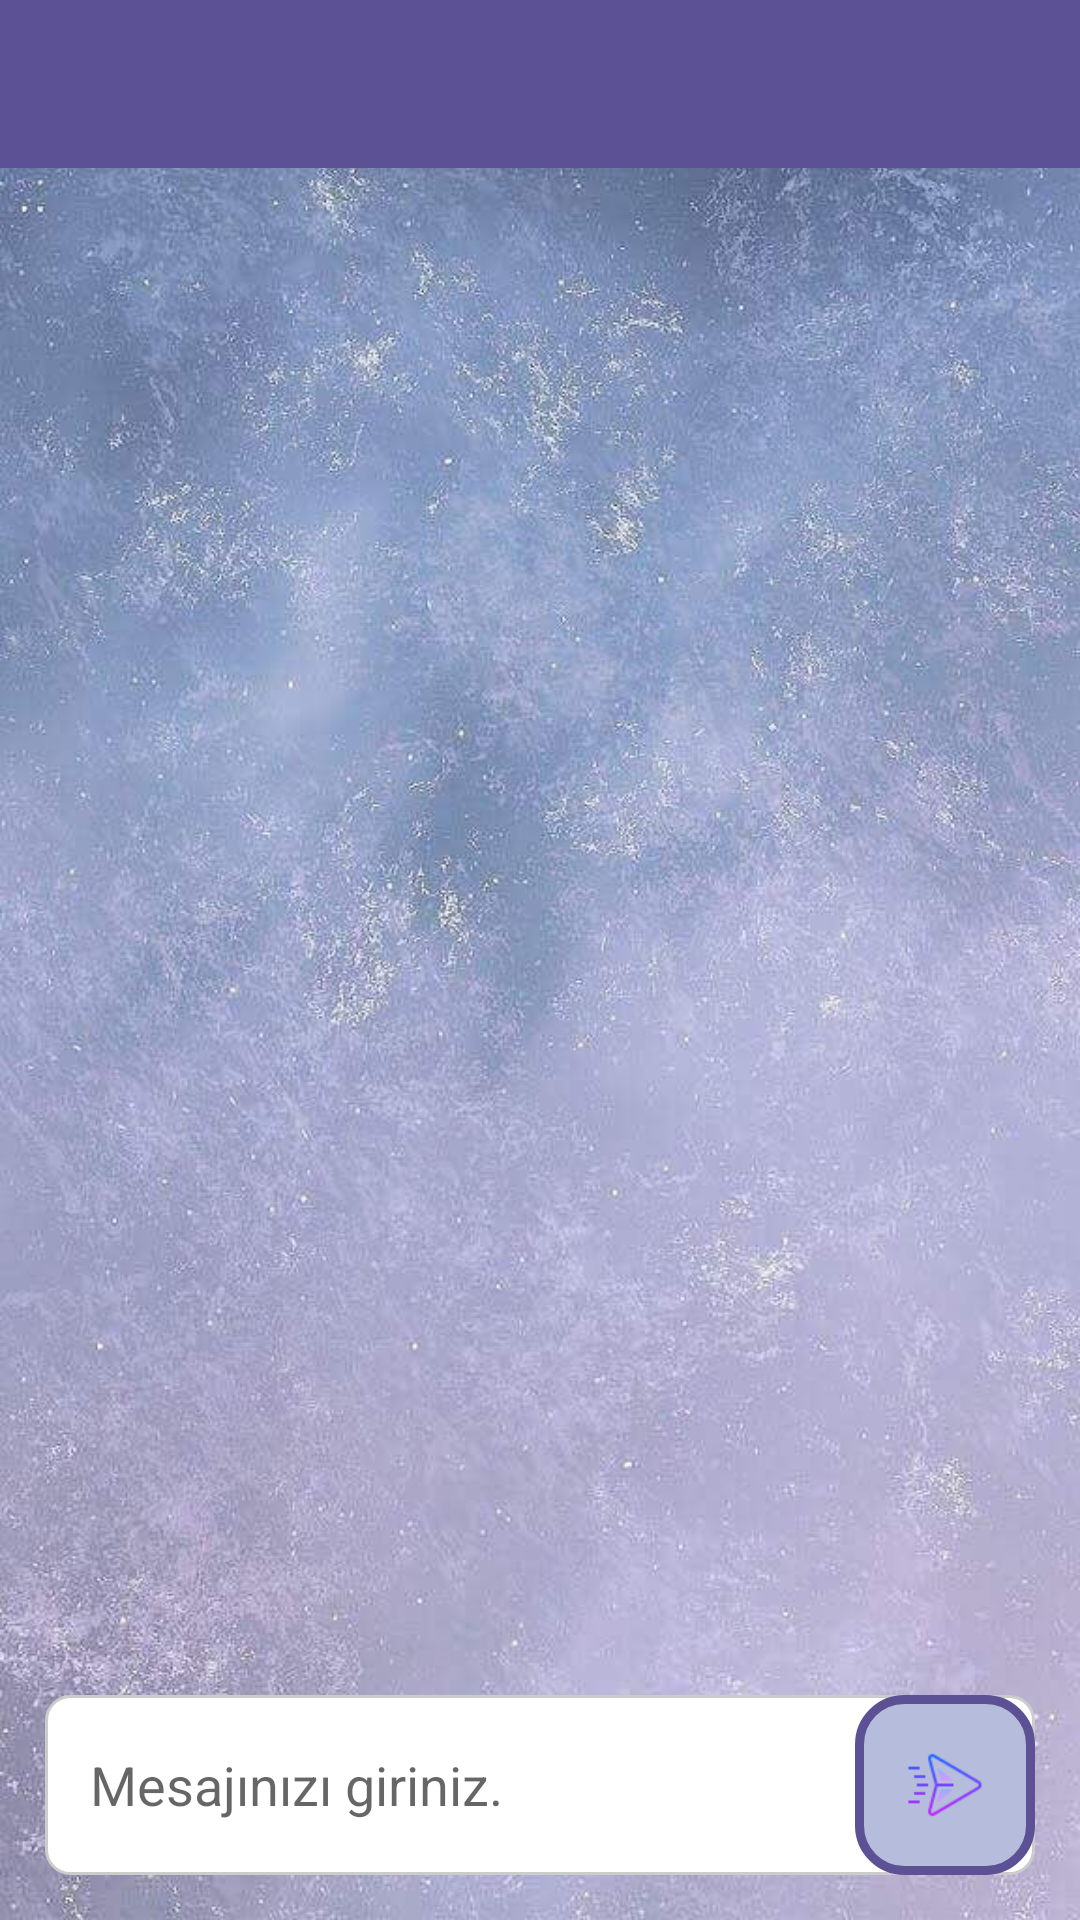

Locate icon controls on the screen. Image size 1080px×1920px, boxes as (x1, y1, x2, y2).
send: (855, 1695, 1035, 1875)
